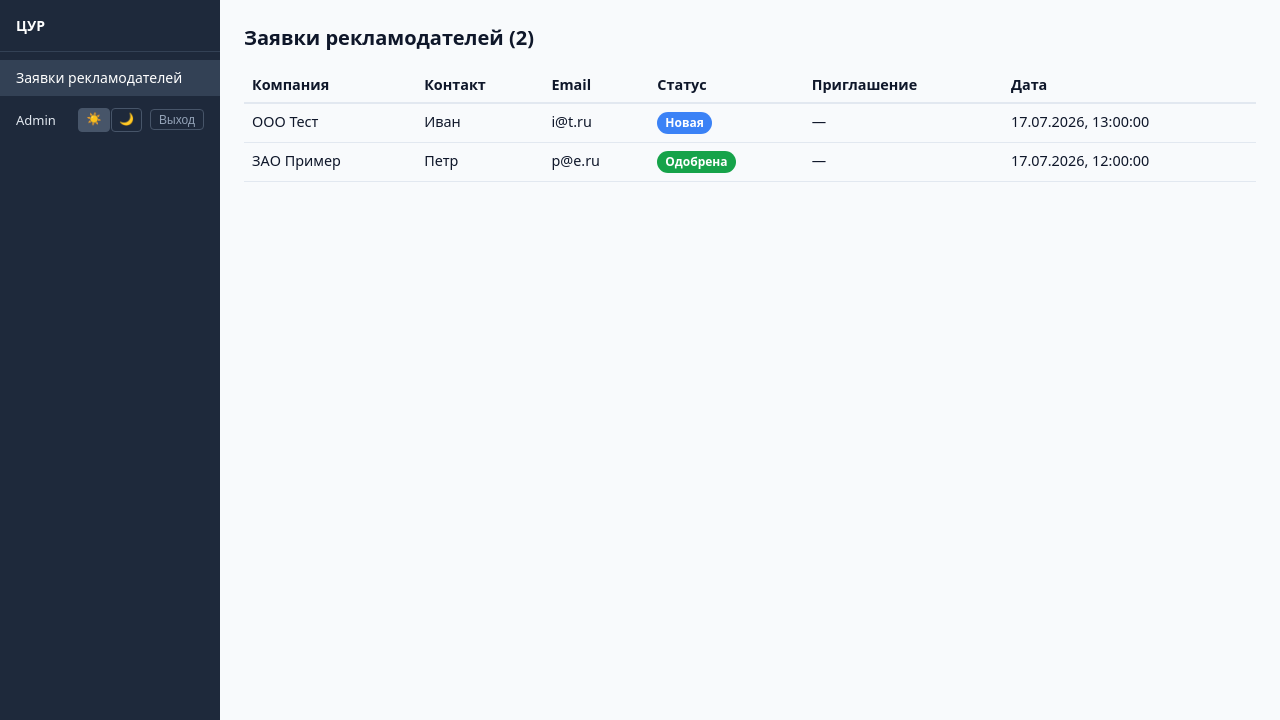
Test: advertiser applications page — detail › shows detail when row clicked
Click the text "ООО Тест" at (330, 123), box x1=244 y1=103 x2=416 y2=142
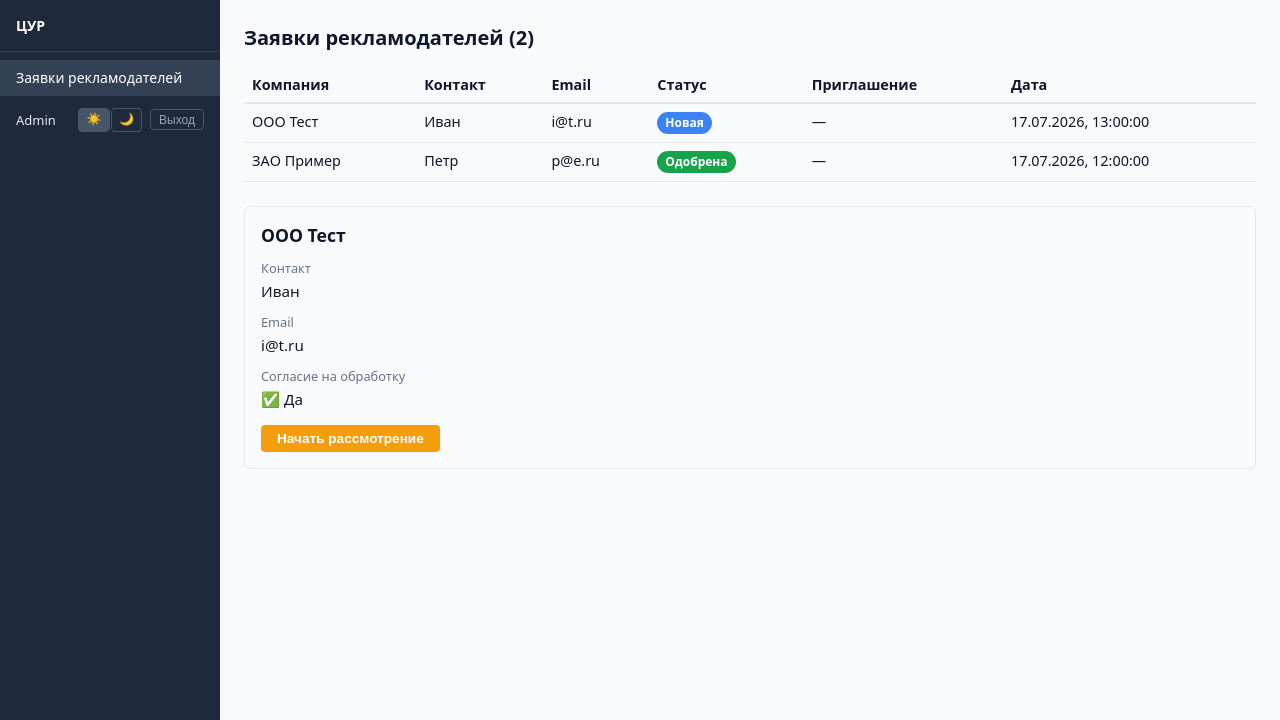
expect the button "Начать рассмотрение" is shown: met, box x1=261 y1=425 x2=440 y2=452
